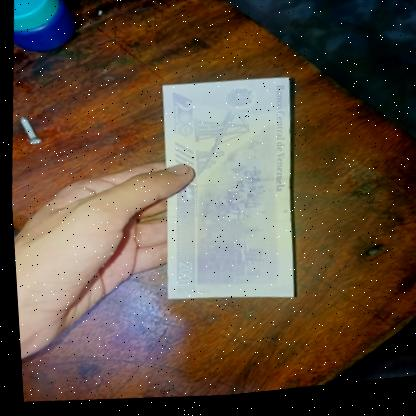two_hundred-back-vef: (145, 73, 304, 315)
